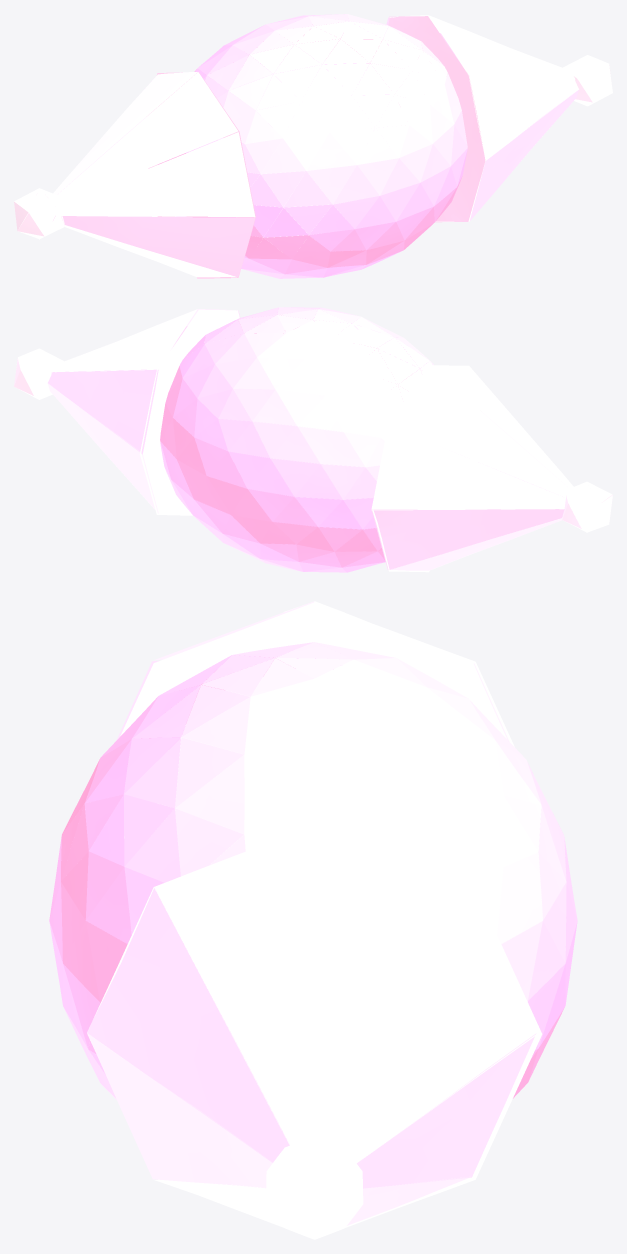
Rendered from halloween_candy.glb.
3 views of the same model, one above another, from view 1: azimuth 30°, elevation 25°; view 2: azimuth 150°, elevation 25°; view 3: azimuth 270°, elevation 25° (orthographic). The views are drawn at different scales.
Parts seen in each view (by area): view 1: Candy; view 2: Candy; view 3: Candy.
Boxes of the visible parts, box(x1,y1,x2,y2) form: Candy: box(14, 14, 612, 278); Candy: box(14, 307, 612, 572); Candy: box(49, 601, 577, 1239).
Bounding box in the file's own units: 2.16 × 0.8384 × 0.8356.
